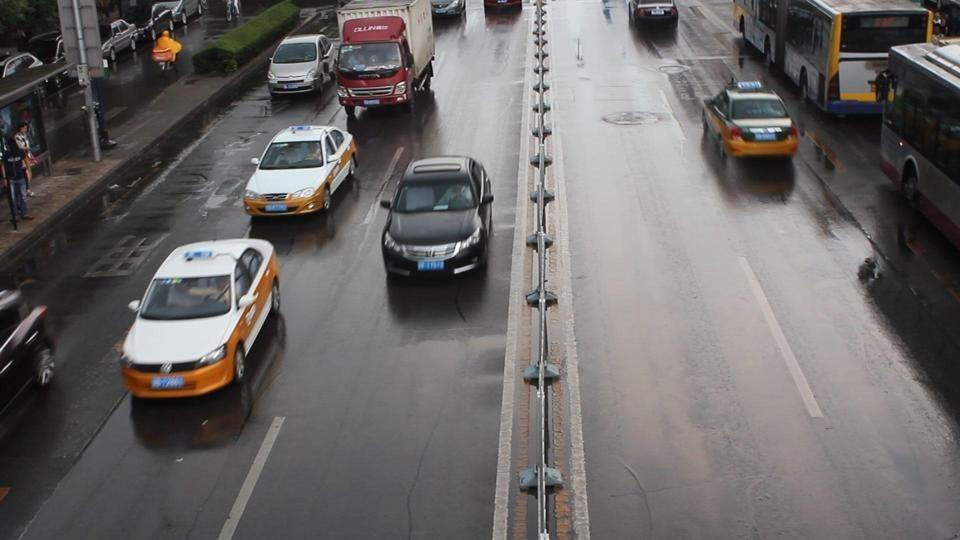car: (118, 239, 282, 400), (380, 154, 494, 281), (242, 125, 360, 216), (0, 283, 58, 418), (700, 82, 800, 160), (265, 32, 339, 101), (629, 1, 678, 30), (431, 1, 466, 18), (483, 0, 522, 12)
